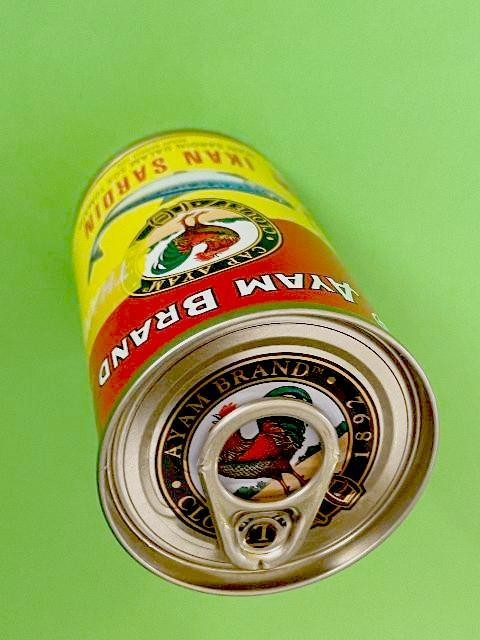foodcan: (70, 124, 442, 600)
